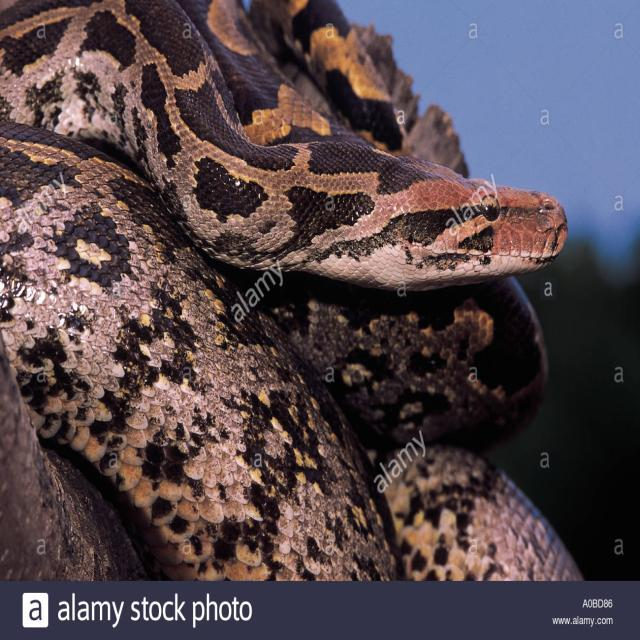Snake: (0, 0, 584, 581)
